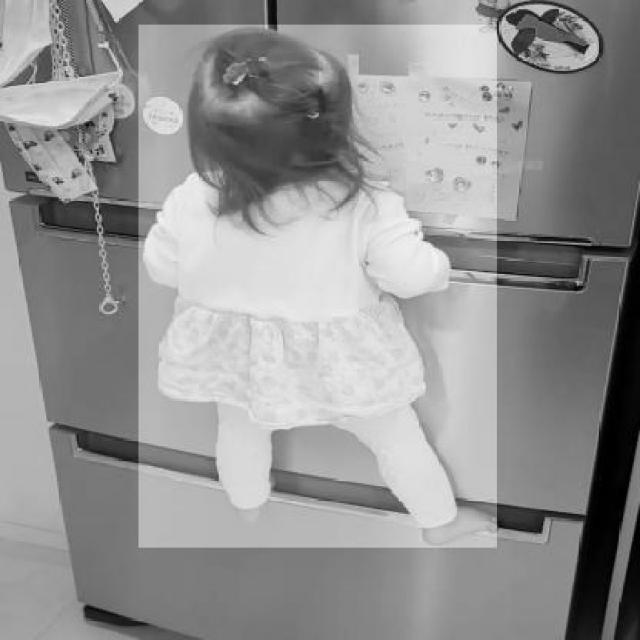child: (139, 25, 497, 548)
